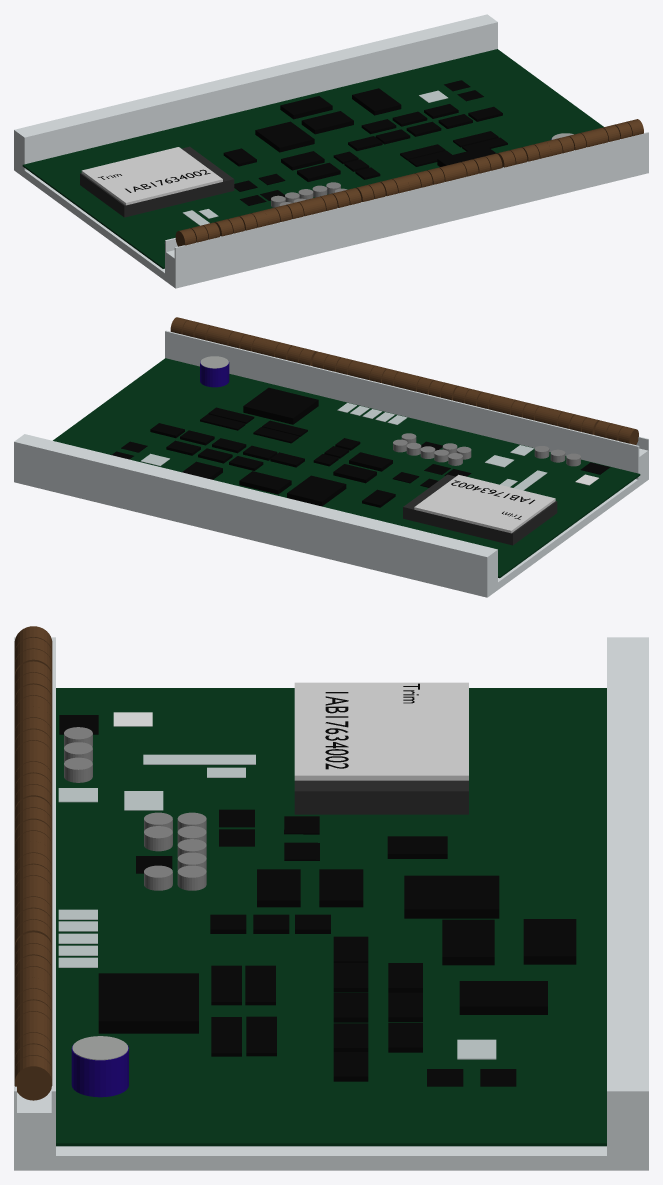
File: Equico.fbx
The picture shows the model from 3 angles, top to bottom: view 1: azimuth 30°, elevation 25°; view 2: azimuth 150°, elevation 25°; view 3: azimuth 270°, elevation 25°; orthographic projection. The views are drawn at different scales.
Visible parts, largest first — view 1: Cube.001, Cube.002, Cube.003, Cube, Cube.311, Cube.476, Cube.377, Cube.410, Cube.1104, Cube.905, Cube.904; view 2: Cube.001, Cube.002, Cube.003, Cube, Cube.1104, Cube.311, Cube.410, Cylinder.012, Cube.905, Cube.904, Cube.476; view 3: Cube.002, Cube.001, Cube.003, Cube.1104, Cube, Cube.311, Cube.476, Cube.410, Cube.377, Cylinder.012, Cube.904, Cube.905 (+19 smaller).
Part boxes in pixels (x1=…): Cube.001: x1=14, y1=14, x2=648, y2=288; Cube.002: x1=22, y1=49, x2=603, y2=268; Cube.003: x1=81, y1=147, x2=222, y2=205; Cube: x1=80, y1=146, x2=234, y2=217; Cube.311: x1=255, y1=121, x2=314, y2=152; Cube.476: x1=352, y1=88, x2=401, y2=115; Cube.377: x1=280, y1=96, x2=332, y2=119; Cube.410: x1=301, y1=111, x2=353, y2=134; Cube.1104: x1=437, y1=146, x2=496, y2=166; Cube.905: x1=297, y1=162, x2=340, y2=181; Cube.904: x1=281, y1=151, x2=324, y2=170; Cube.001: x1=14, y1=330, x2=648, y2=597; Cube.002: x1=53, y1=358, x2=640, y2=578; Cube.003: x1=414, y1=474, x2=555, y2=533; Cube: x1=403, y1=474, x2=557, y2=545; Cube.1104: x1=243, y1=387, x2=318, y2=424; Cube.311: x1=287, y1=475, x2=346, y2=506; Cube.410: x1=239, y1=471, x2=291, y2=494; Cylinder.012: x1=200, y1=361, x2=229, y2=387; Cube.905: x1=349, y1=452, x2=392, y2=471; Cube.904: x1=333, y1=464, x2=376, y2=483; Cube.476: x1=182, y1=461, x2=222, y2=479; Cube.002: x1=56, y1=688, x2=606, y2=1146; Cube.001: x1=14, y1=637, x2=648, y2=1170; Cube.003: x1=294, y1=682, x2=468, y2=780; Cube.1104: x1=98, y1=973, x2=198, y2=1033; Cube: x1=294, y1=780, x2=468, y2=814; Cube.311: x1=404, y1=875, x2=499, y2=918; Cube.476: x1=459, y1=981, x2=547, y2=1014; Cube.410: x1=442, y1=919, x2=494, y2=965; Cube.377: x1=523, y1=919, x2=576, y2=964; Cylinder.012: x1=71, y1=1045, x2=128, y2=1097; Cube.904: x1=319, y1=869, x2=363, y2=907; Cube.905: x1=257, y1=869, x2=300, y2=907.
Bounding box in the file's own units: 1523 × 156 × 897.
